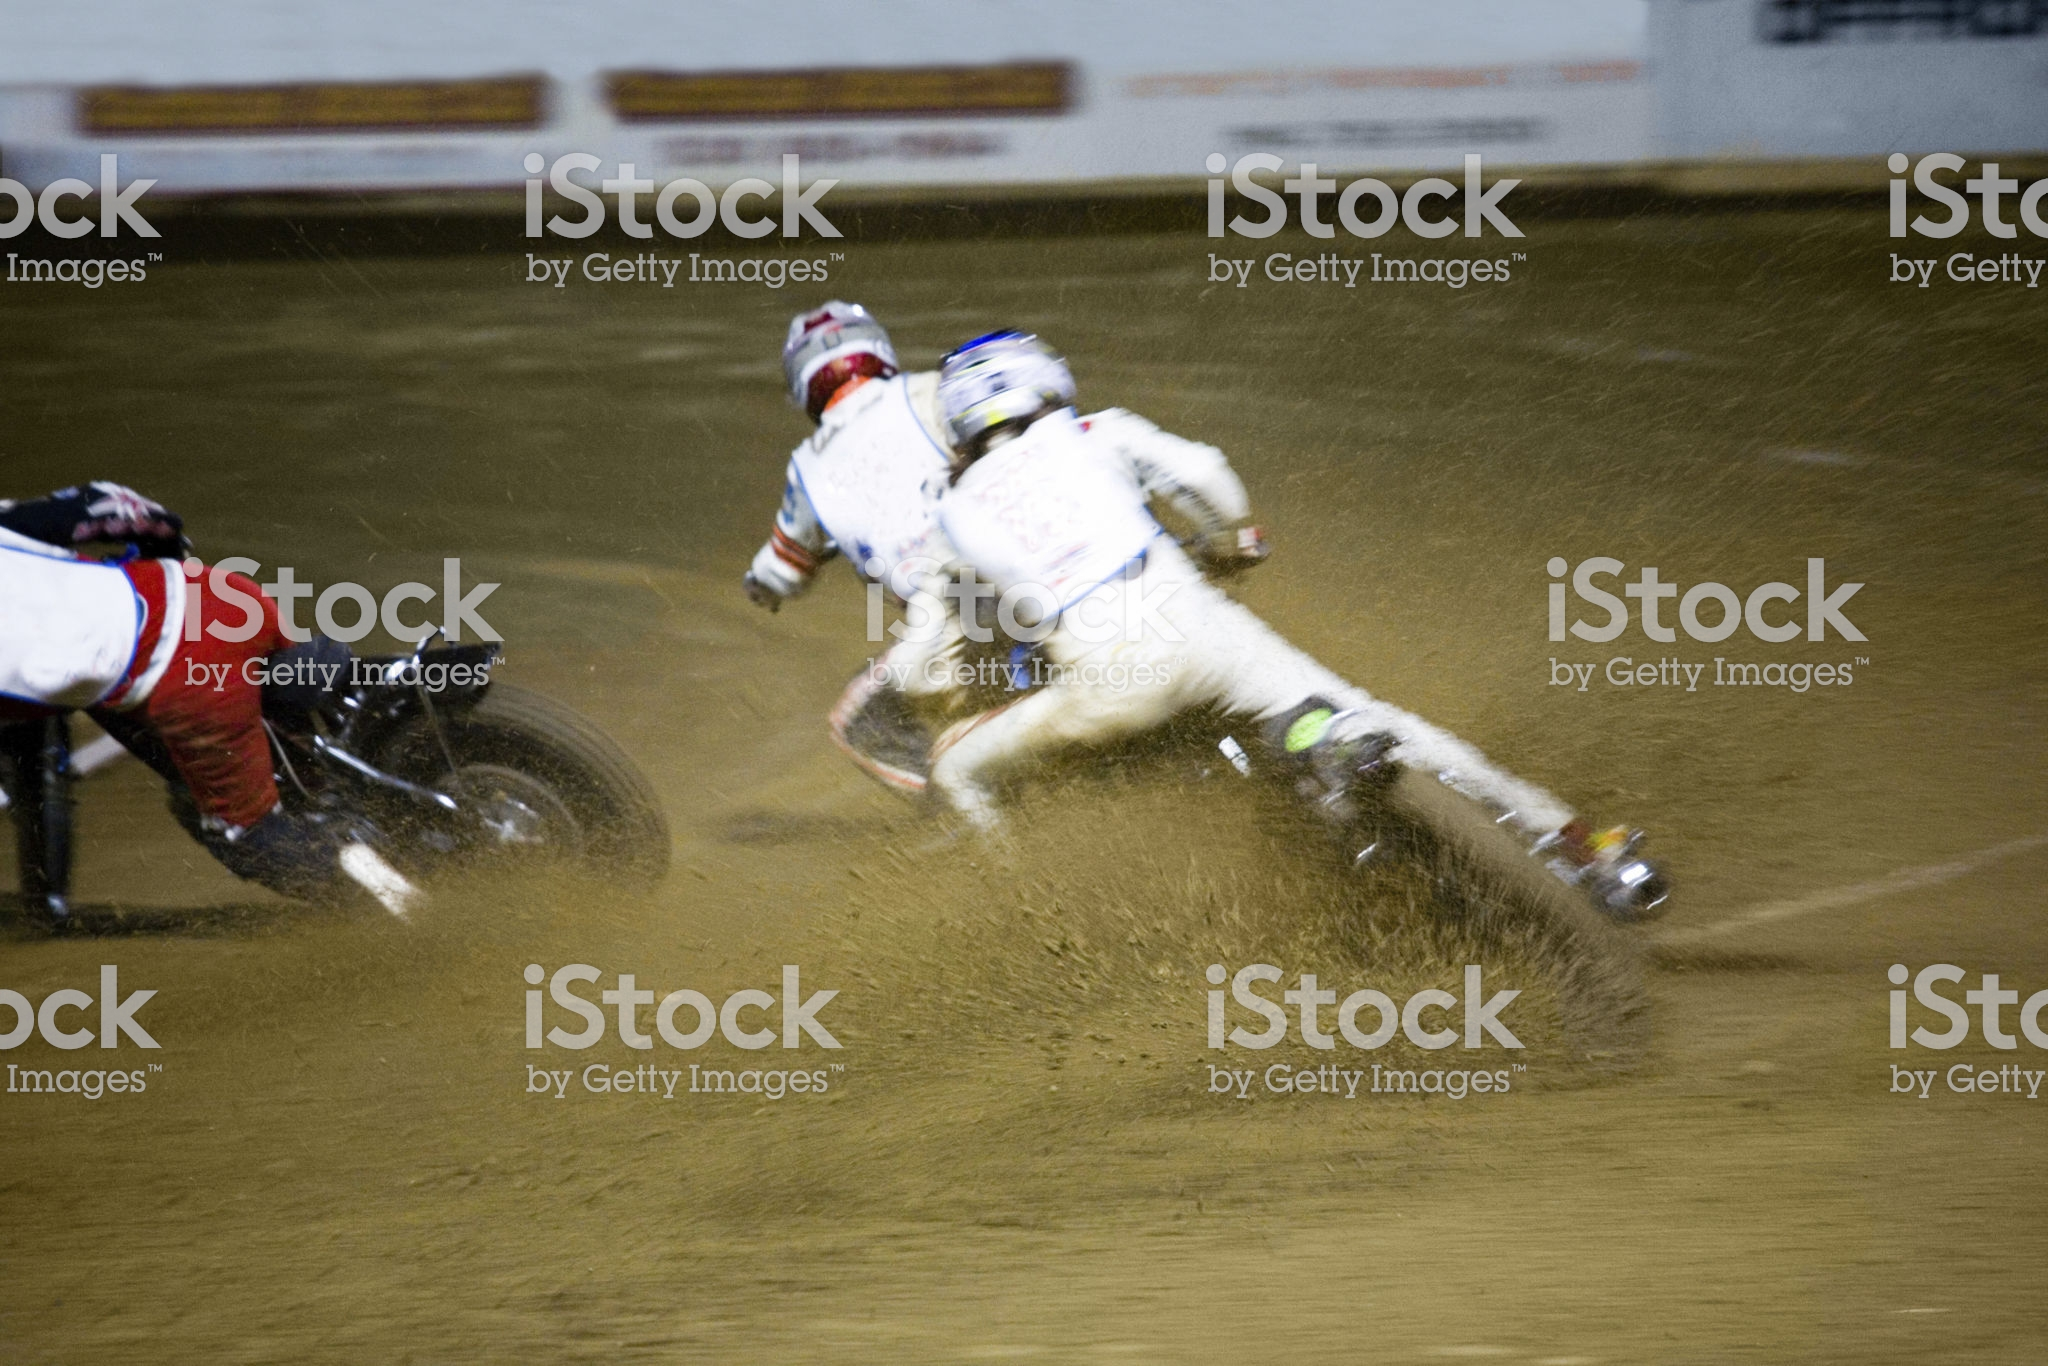helmet: (936, 341, 1090, 438), (760, 290, 902, 389)
